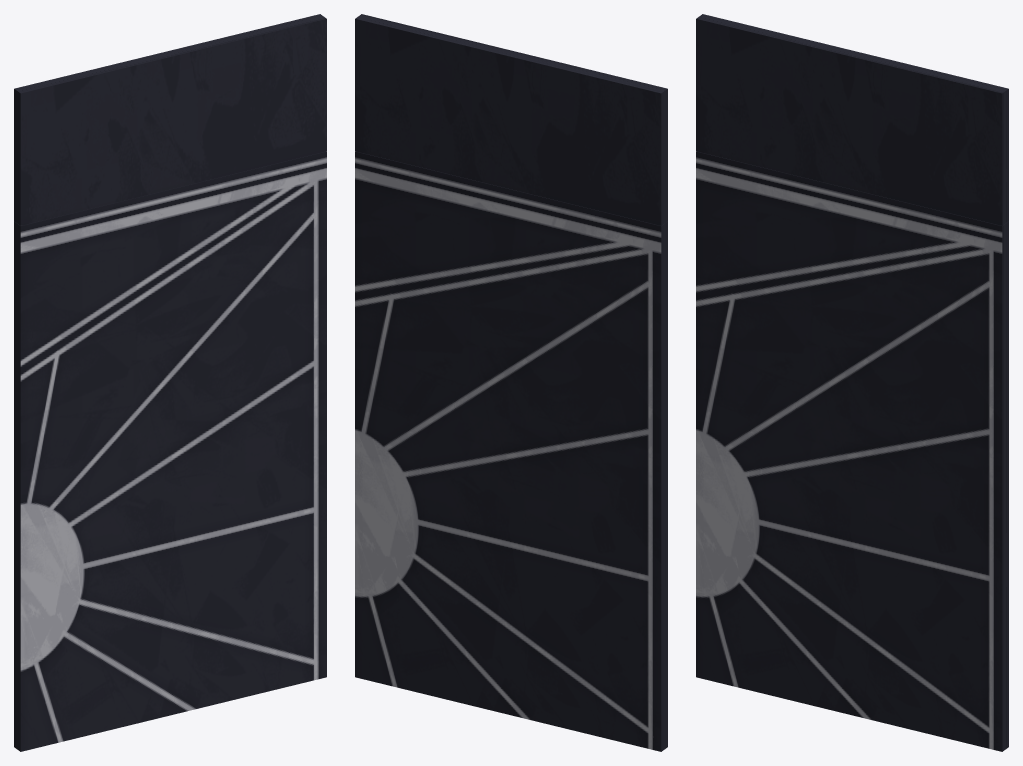
The model's file is AdrienMansion_UpperFloor_door.fbx.
The picture shows the model from 3 angles, left to right: view 1: azimuth 30°, elevation 25°; view 2: azimuth 150°, elevation 25°; view 3: azimuth 330°, elevation 25°; orthographic projection.
Visible parts, largest first — view 1: AdrienMansion_UpperFloor_door, AdrienMansion_UpperFloor_doorTop; view 2: AdrienMansion_UpperFloor_door, AdrienMansion_UpperFloor_doorTop; view 3: AdrienMansion_UpperFloor_door, AdrienMansion_UpperFloor_doorTop.
Part boxes in pixels (box(x1,y1,x2,y2)): AdrienMansion_UpperFloor_door: box(14, 151, 326, 751); AdrienMansion_UpperFloor_doorTop: box(14, 14, 326, 225); AdrienMansion_UpperFloor_door: box(355, 151, 667, 751); AdrienMansion_UpperFloor_doorTop: box(355, 14, 667, 225); AdrienMansion_UpperFloor_door: box(696, 151, 1008, 751); AdrienMansion_UpperFloor_doorTop: box(696, 14, 1008, 225).
Size of the model in its own units: 1267 by 2604 by 47.
